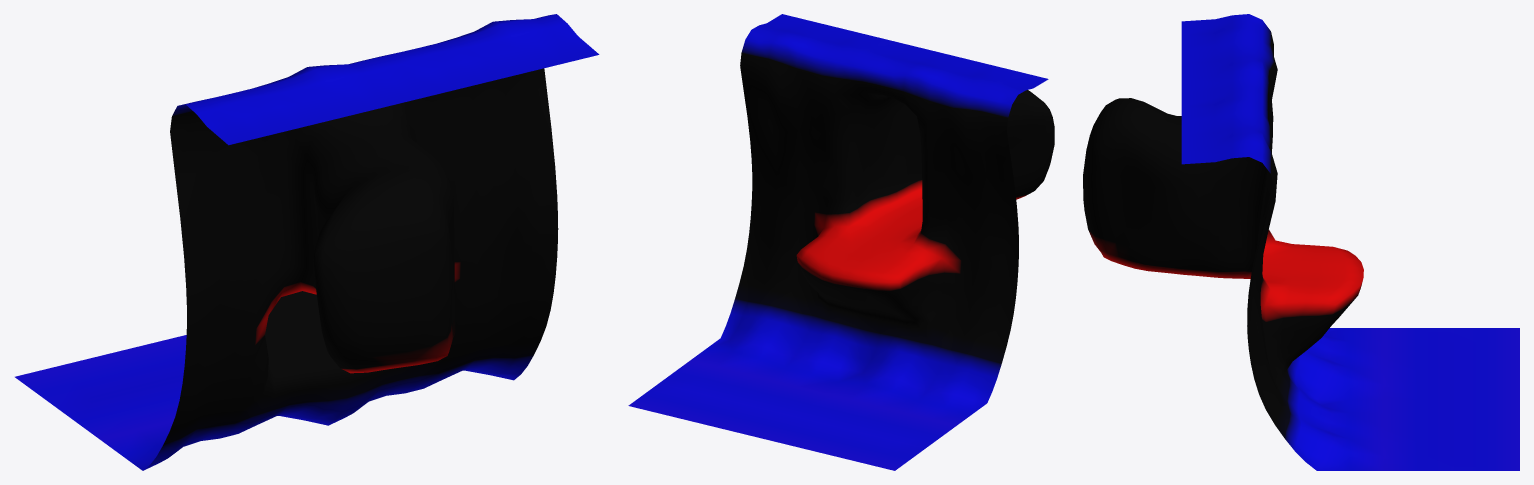
Rendered from WaterFallCliff02A 3M.fbx.
3 views of the same model, side by side, from view 1: azimuth 30°, elevation 25°; view 2: azimuth 150°, elevation 25°; view 3: azimuth 270°, elevation 25° (orthographic). The views are drawn at different scales.
Parts seen in each view (by area): view 1: WaterFallCliff02A 3M; view 2: WaterFallCliff02A 3M; view 3: WaterFallCliff02A 3M.
Boxes of the visible parts, x1,y1,x2,y2 form: WaterFallCliff02A 3M: [15, 14, 599, 470]; WaterFallCliff02A 3M: [628, 14, 1054, 470]; WaterFallCliff02A 3M: [1083, 14, 1519, 470].
Bounding box in the file's own units: 2 × 2.07 × 2.58.
